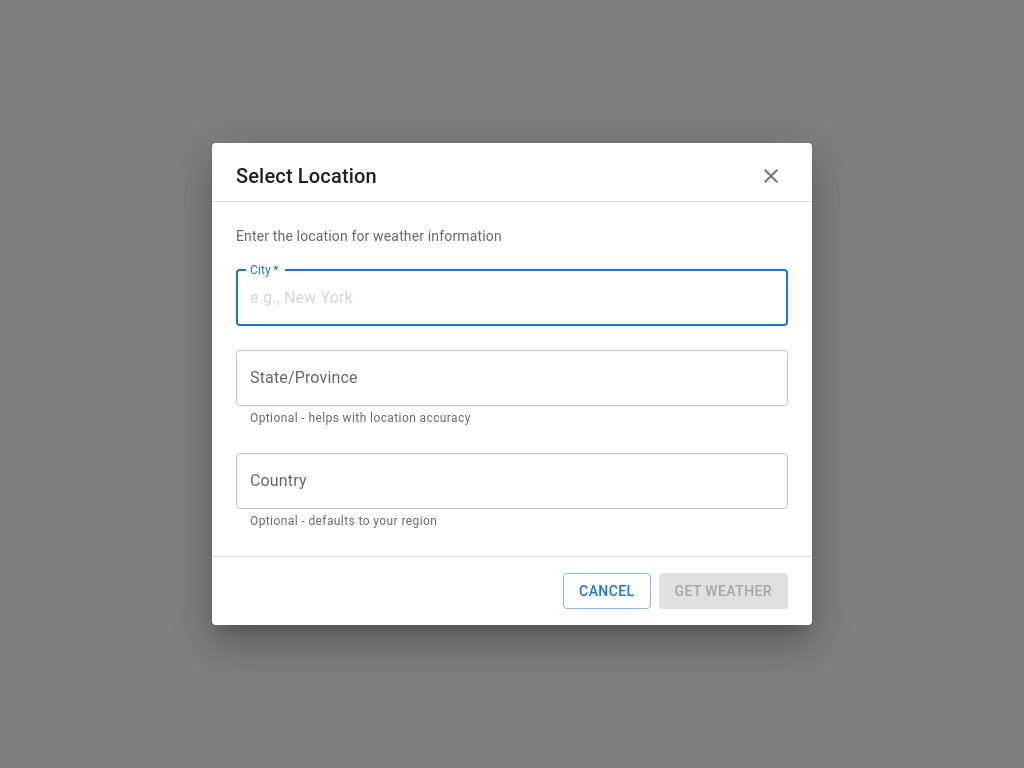
Scenario: CitySelectionDialog › Form Validation › should enable save button when city is valid
Type "Boston" into the field labelled "City *".
click(512, 298); type("Boston")  # box [236,270,788,326]
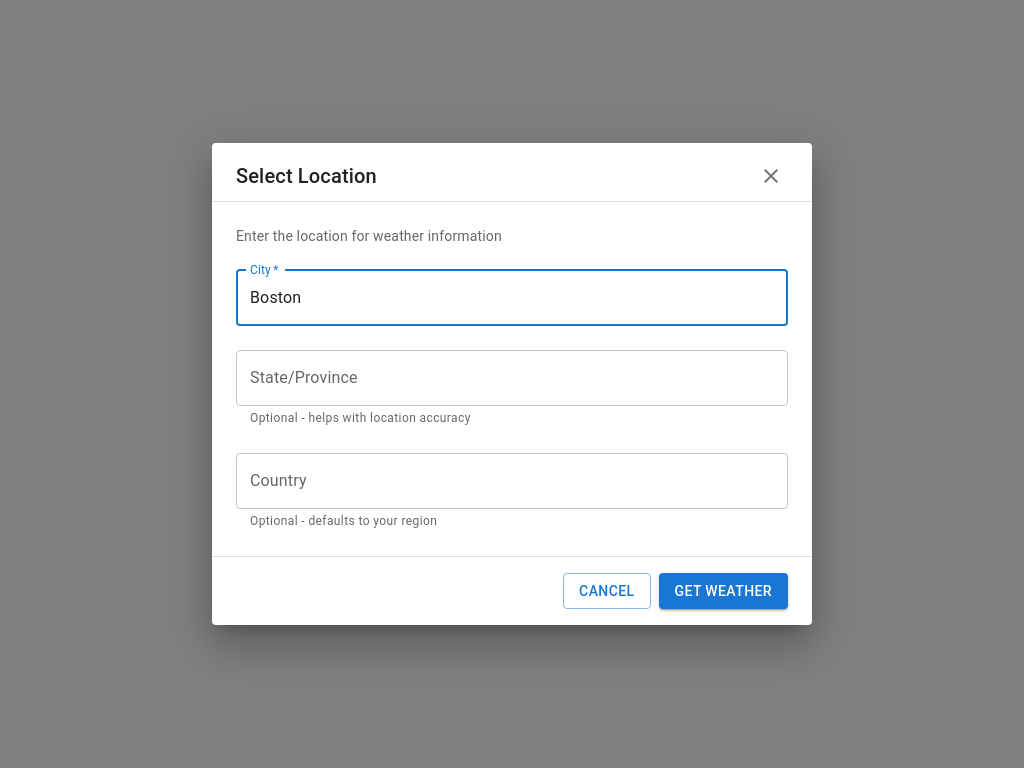
expect the button with test id "city-selection-dialog-save-button" is enabled: met, box [659,573,788,609]
